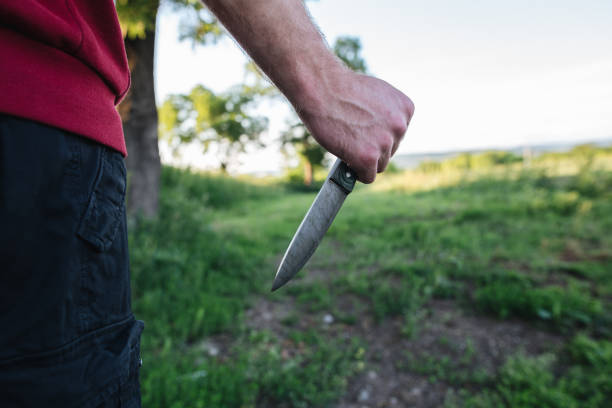knife: (268, 153, 360, 295)
